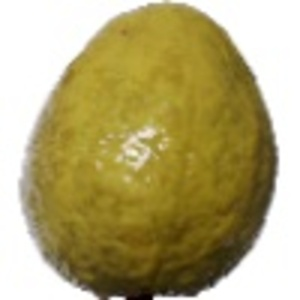goiaba: (7, 7, 288, 294)
